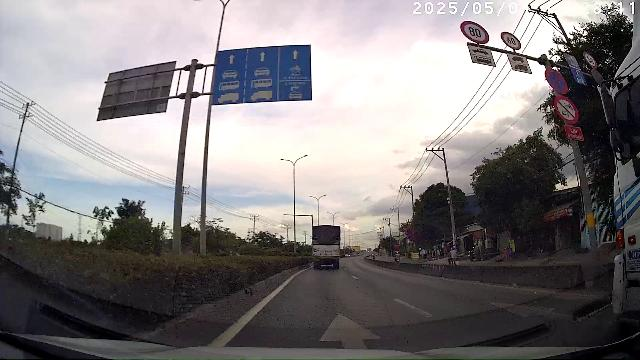127-toc-do-toi-da-50: (582, 51, 598, 68)
127-toc-do-toi-da-60: (500, 31, 522, 49)
127-toc-do-toi-da-80: (460, 20, 490, 44)
130-cam-dung-va-do-xe: (545, 68, 568, 94)
